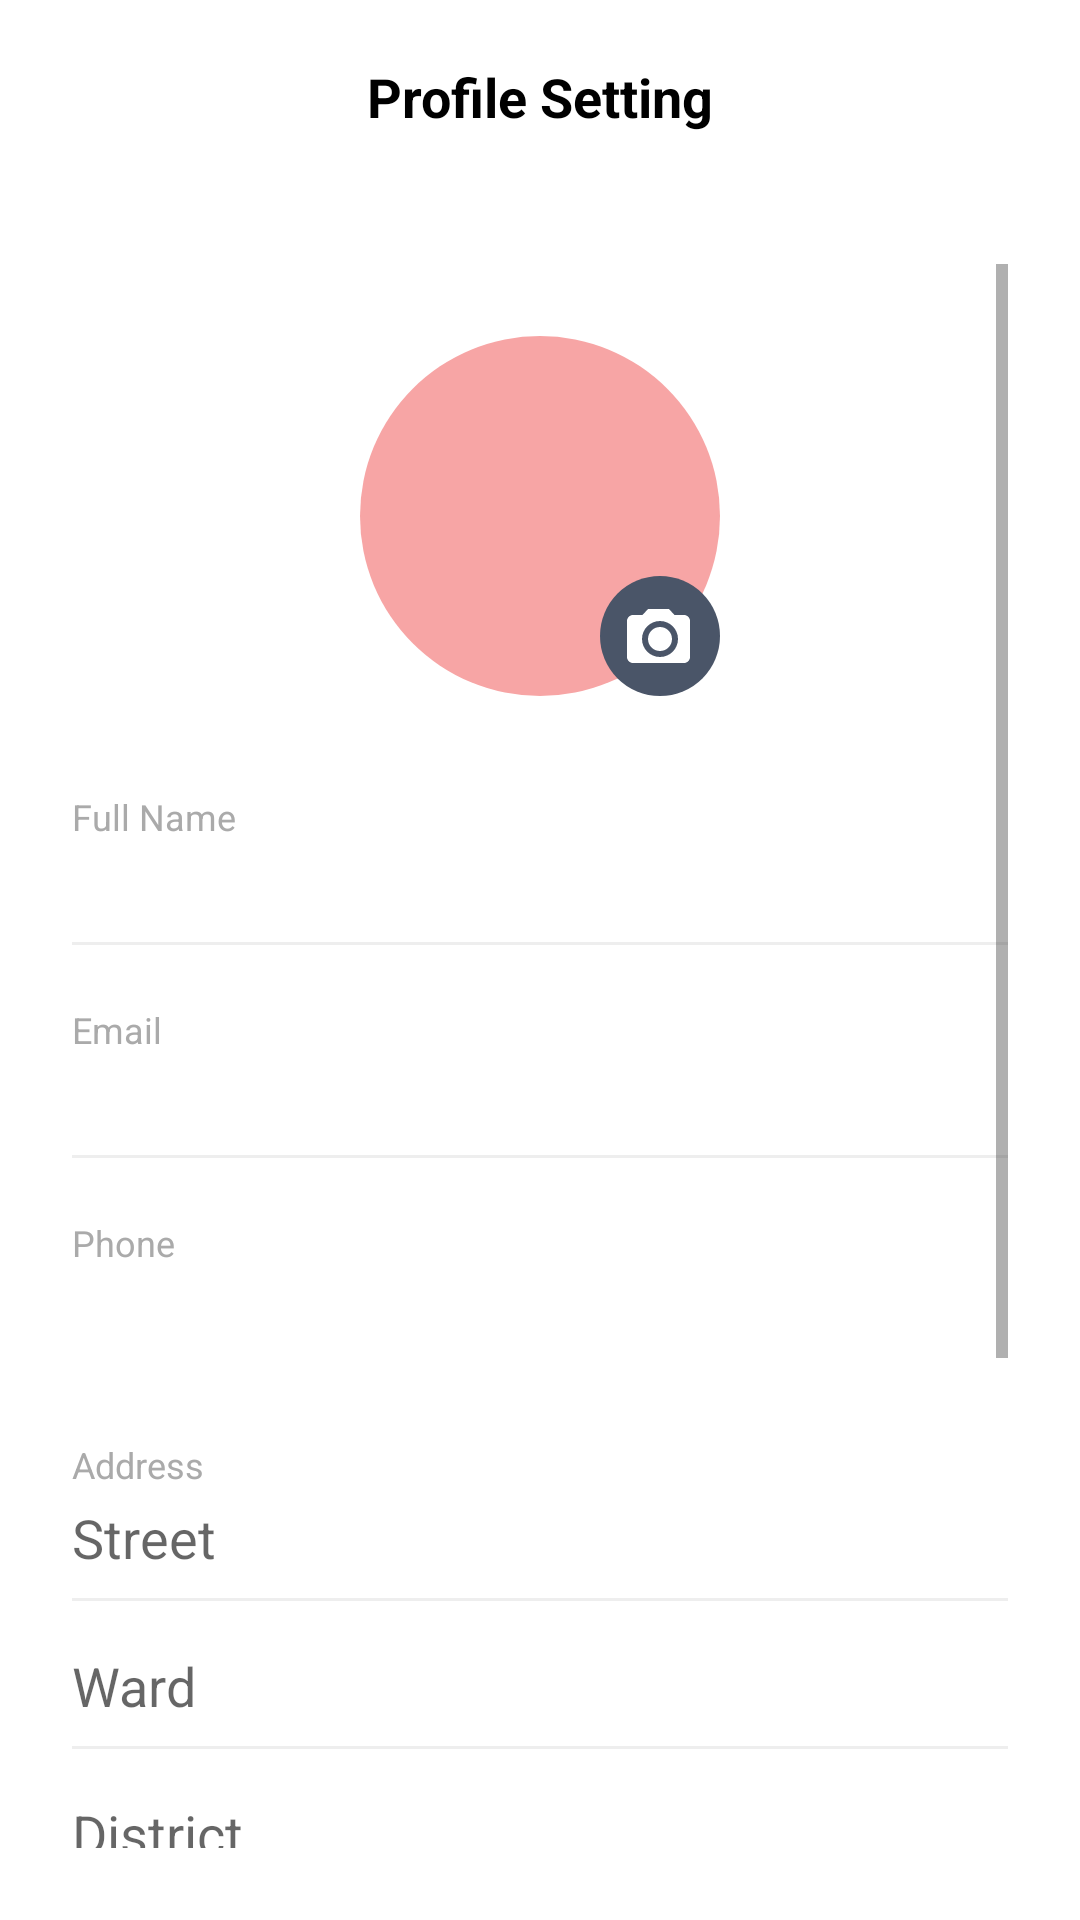

Screen size 1080×1920. Icon name, then its center in pixels as [x,y]:
camera: [660,636]
